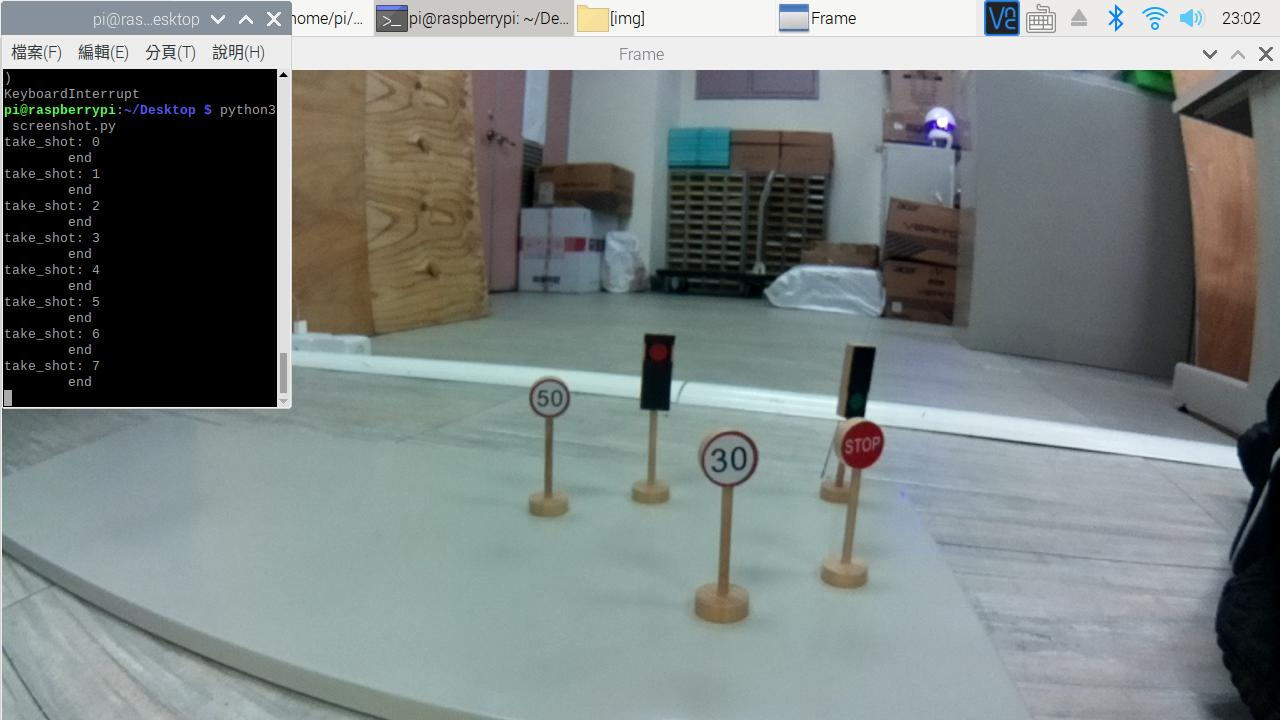Green: (846, 339, 871, 421)
Red: (642, 331, 671, 409)
Speed30: (701, 425, 758, 492)
Speed50: (528, 374, 574, 417)
Stop: (833, 424, 887, 465)
